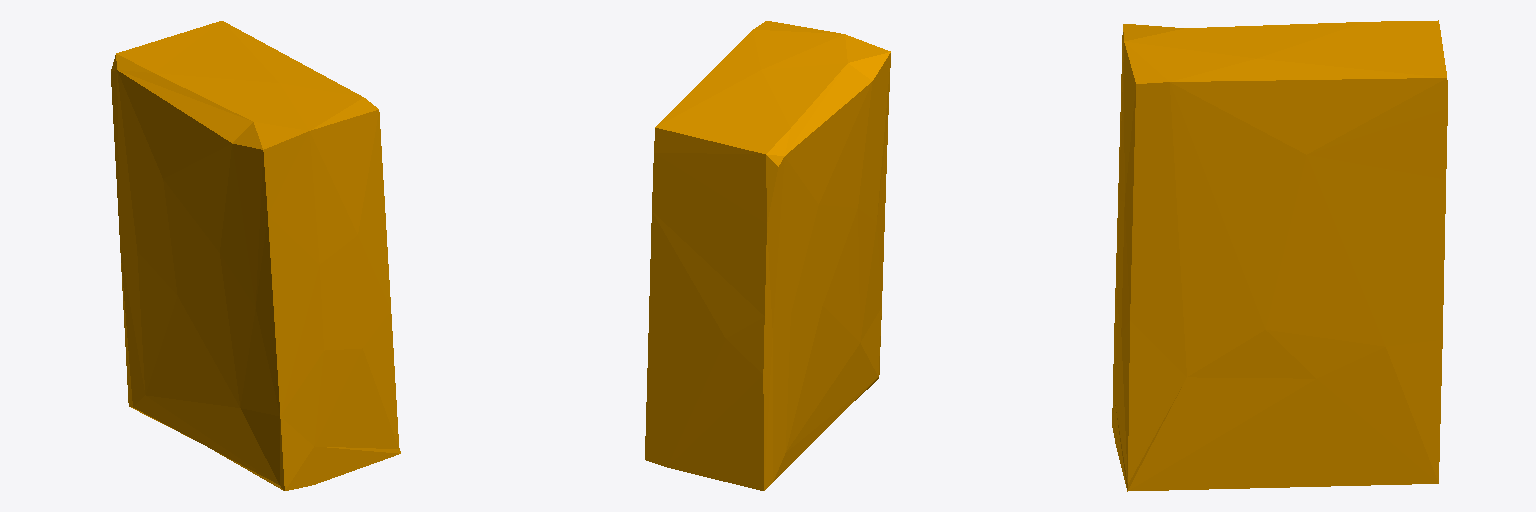
The robot description file, URDF, robot "InstantDumplings_800_tex":
<?xml version="1.0"?>
<robot name="InstantDumplings_800_tex">
  <link name="base_link">
    <contact>
      <lateral_friction value="1.0"/>
      <rolling_friction value="0.0"/>
      <contact_cfm value="0.0"/>
      <contact_erp value="1.0"/>
    </contact>
    <inertial>
      <mass value="0.0399163848404"/>
      <inertia ixx="1" ixy="0" ixz="0" iyy="1" iyz="0" izz="1"/>
    </inertial>
    <visual>
      <geometry>
        <mesh filename="InstantDumplings_800_tex_visual.obj"/>
      </geometry>
    </visual>
    <collision>
      <geometry>
        <mesh filename="InstantDumplings_800_tex_collision.obj"/>
      </geometry>
    </collision>
  </link>
</robot>

--- Render facts (derived) ---
The picture shows the robot from 3 angles, left to right: view 1: azimuth 30°, elevation 25°; view 2: azimuth 150°, elevation 25°; view 3: azimuth 270°, elevation 25°; orthographic projection.
Model InstantDumplings_800_tex with 1 links and 0 joints (none), rooted at base_link, posed all joints at 0.
Links seen in each view (by area): view 1: base_link; view 2: base_link; view 3: base_link.
Boxes of the visible links, <box> form: base_link: <box>111,21,400,490</box>; base_link: <box>645,21,890,490</box>; base_link: <box>1112,20,1447,491</box>.
Size in the robot's own frame: 0.0282 by 0.0451 by 0.0614 metres.
1 mesh visuals loaded from 1 distinct referenced files (1 OBJ).